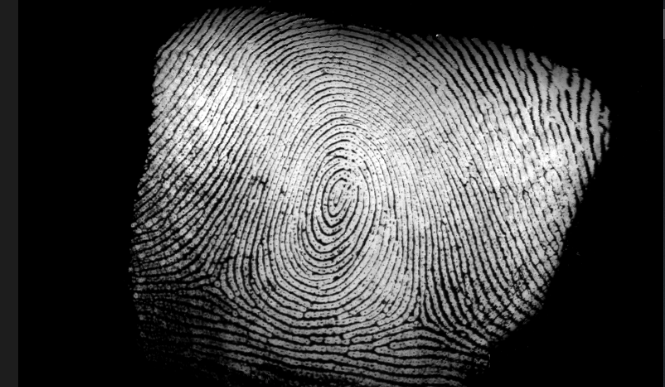deltas: (185, 257, 236, 302), (397, 293, 440, 337)
nucleo: (322, 172, 356, 217)
